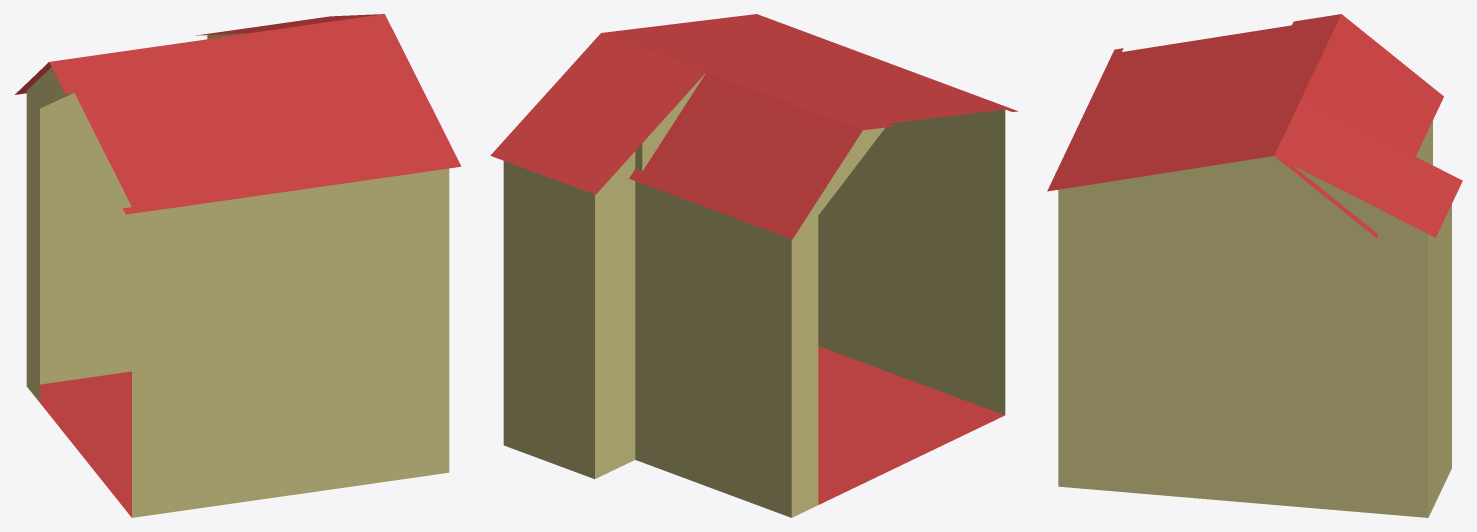
3 views of the same model, side by side, from view 1: azimuth 30°, elevation 25°; view 2: azimuth 150°, elevation 25°; view 3: azimuth 270°, elevation 25° (orthographic). The views are drawn at different scales.
Size of the model in its own units: 10.97 by 11.02 by 10.33.
